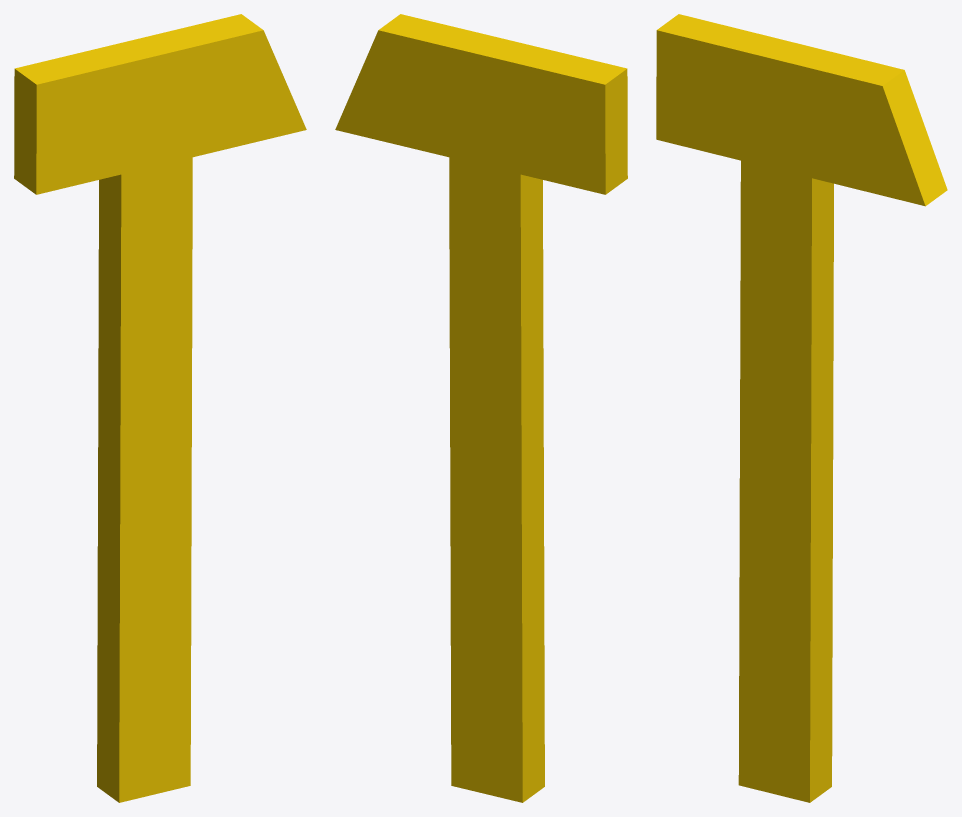
Rendered from Hammer.fbx.
3 renders of one model, left to right at view 1: azimuth 30°, elevation 25°; view 2: azimuth 150°, elevation 25°; view 3: azimuth 330°, elevation 25°, orthographic.
Visible parts, largest first — view 1: Plane; view 2: Plane; view 3: Plane.
Boxes of the visible parts, <box> form: Plane: <box>14,14,306,802</box>; Plane: <box>335,14,627,802</box>; Plane: <box>656,14,947,802</box>.
Size of the model in its own units: 25.32 by 66.06 by 3.6.
